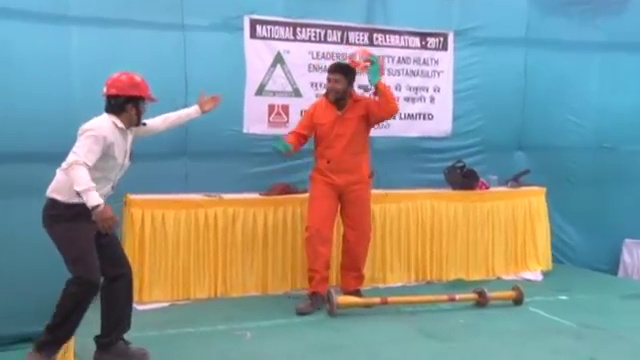helmet: (100, 70, 160, 103)
helmet_off: (326, 58, 356, 104)
helmet_on: (99, 69, 160, 132)
person: (27, 71, 224, 360), (284, 52, 391, 309)
